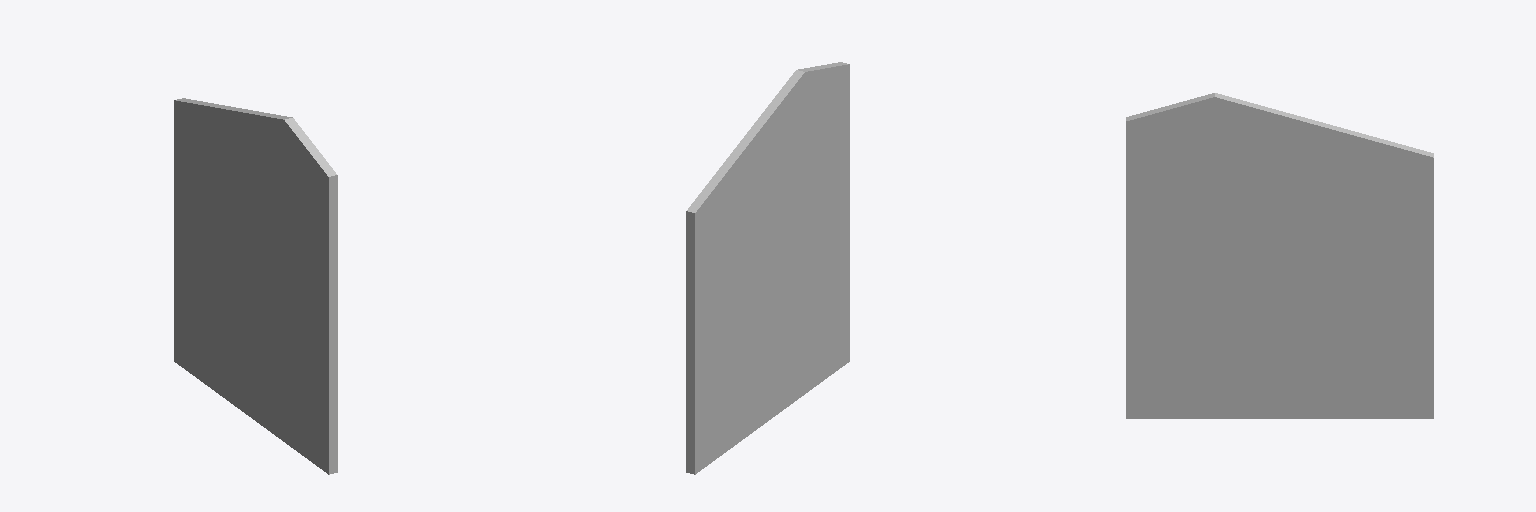
Rendered from 3D_5.2_SIM.obj.
The picture shows the model from 3 angles: view 1: azimuth 30°, elevation 25°; view 2: azimuth 150°, elevation 25°; view 3: azimuth 270°, elevation 25°; orthographic projection.
Visible parts, largest first — view 1: 3D_5.2_SIM; view 2: 3D_5.2_SIM; view 3: 3D_5.2_SIM.
Part boxes in pixels (left/top/right/bottom): 3D_5.2_SIM: left=174, top=98, right=337, bottom=474; 3D_5.2_SIM: left=686, top=62, right=849, bottom=474; 3D_5.2_SIM: left=1126, top=93, right=1433, bottom=418.
Size of the model in its own units: 0.1 by 3.46 by 3.